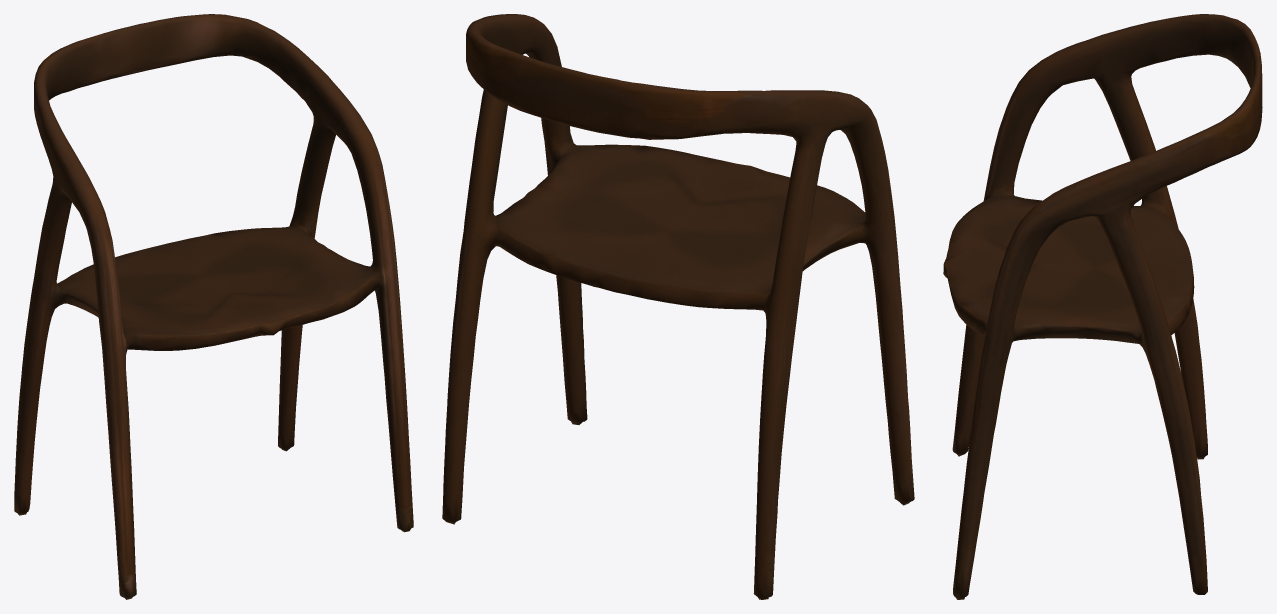
Rendered from 6b3a6205-09b1-4296-9587-5bcfd5620243.glb.
3 renders of one model, left to right at view 1: azimuth 30°, elevation 25°; view 2: azimuth 150°, elevation 25°; view 3: azimuth 270°, elevation 25°, orthographic. The views are drawn at different scales.
Parts seen in each view (by area): view 1: Mesh_0; view 2: Mesh_0; view 3: Mesh_0.
Part boxes in pixels (x1,y1,x2,y2): Mesh_0: (14,14,413,599); Mesh_0: (442,14,914,599); Mesh_0: (943,14,1262,599).
Bounding box in the file's own units: 1.35 × 1.91 × 1.19.
Materials: 1 (1 with a texture image).
